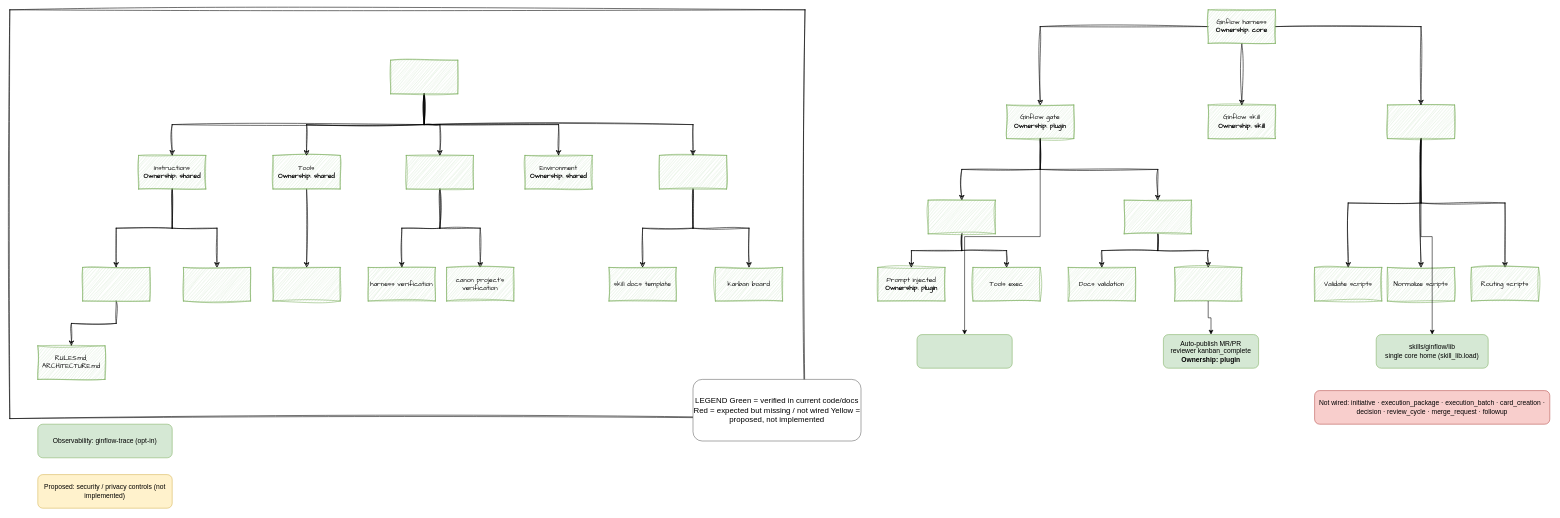
Some shapes in this 1560 by 518 pixel diagram are drawn without their labels. Each missing label, with the centre of its shape:
AGENTS.md, CLAUDE.md: pixel 217 284
Block routing kanban_task_blocked + kanban_block guard Ownership: plugin: pixel 964 351
Core Ownership: core: pixel 1421 121
Docs references: pixel 116 284
Feedback Ownership: missing: pixel 439 172
Harness subsystems: pixel 424 77
hermes tools, kanban tools: pixel 306 284
Kanban complete gate Ownership: plugin: pixel 1157 217
Mark complete task: pixel 1208 284
State Ownership: core: pixel 693 172
Task routing Ownership: plugin: pixel 961 217
